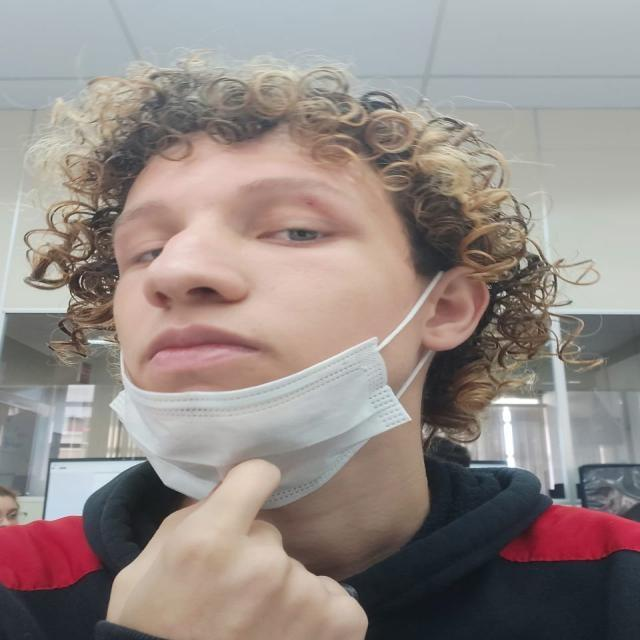hairnet: (99, 150, 418, 472)
